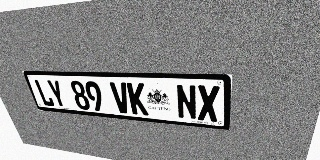8: (69, 80, 91, 110)
9: (83, 81, 106, 112)
K: (126, 82, 149, 116)
L: (33, 79, 55, 107)
N: (175, 84, 197, 120)
V: (109, 82, 132, 114)
X: (197, 85, 220, 122)
Y: (46, 80, 68, 108)
